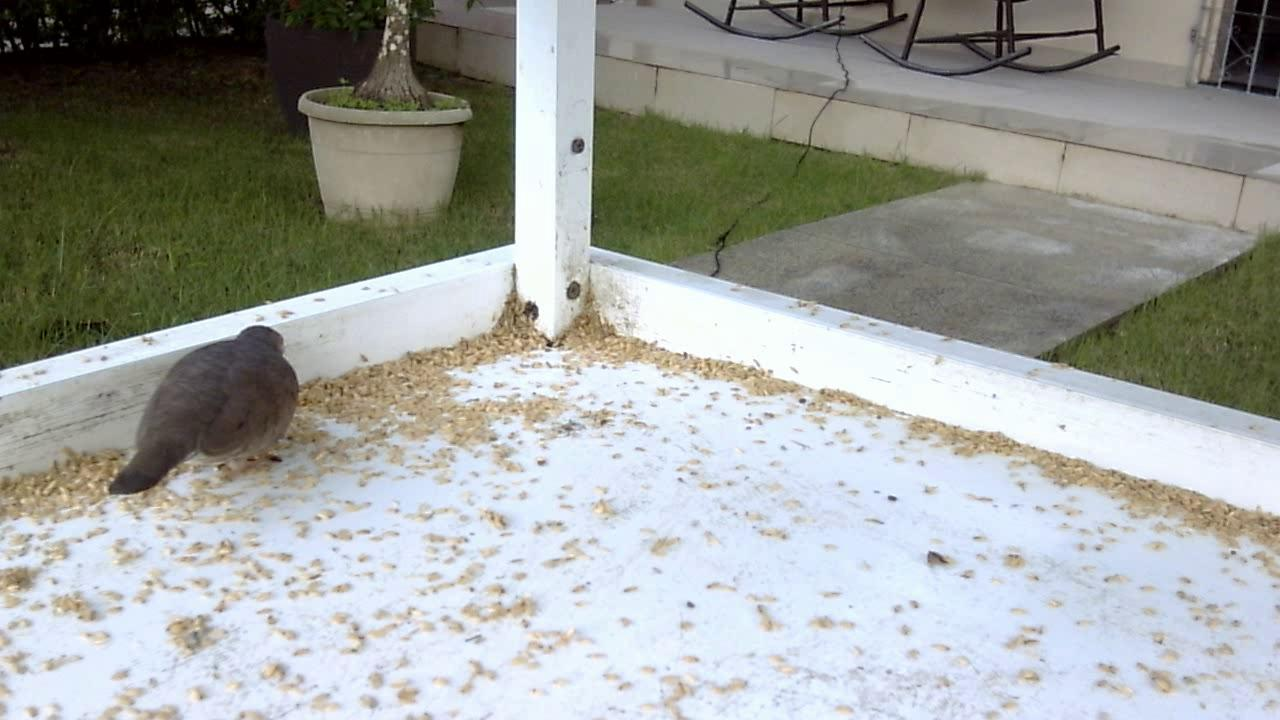rolinha: (96, 316, 312, 508)
